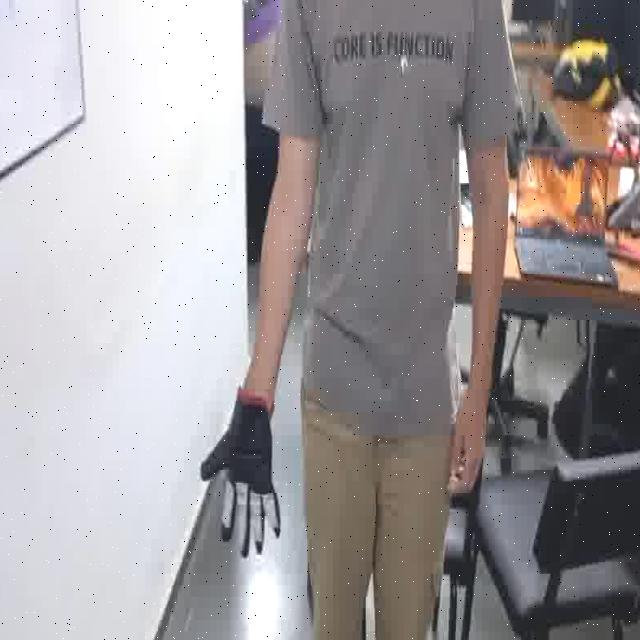Gloves: (197, 384, 293, 574)
